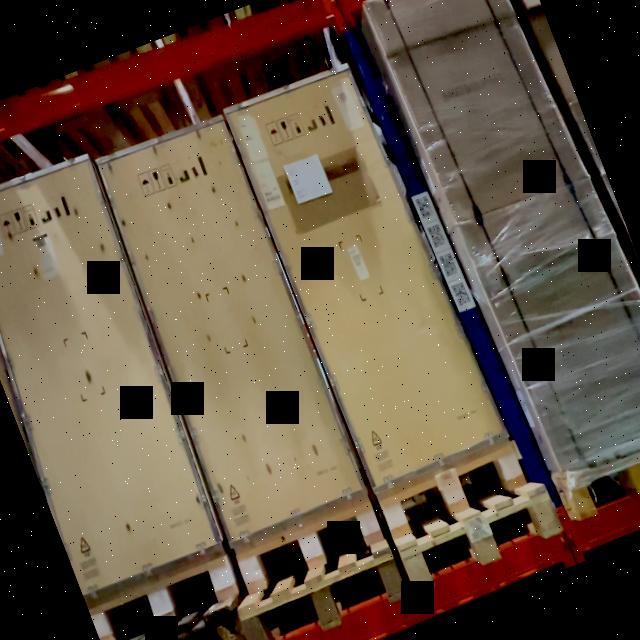box: (227, 65, 506, 491), (96, 113, 368, 544), (457, 175, 640, 475), (364, 0, 591, 223)
